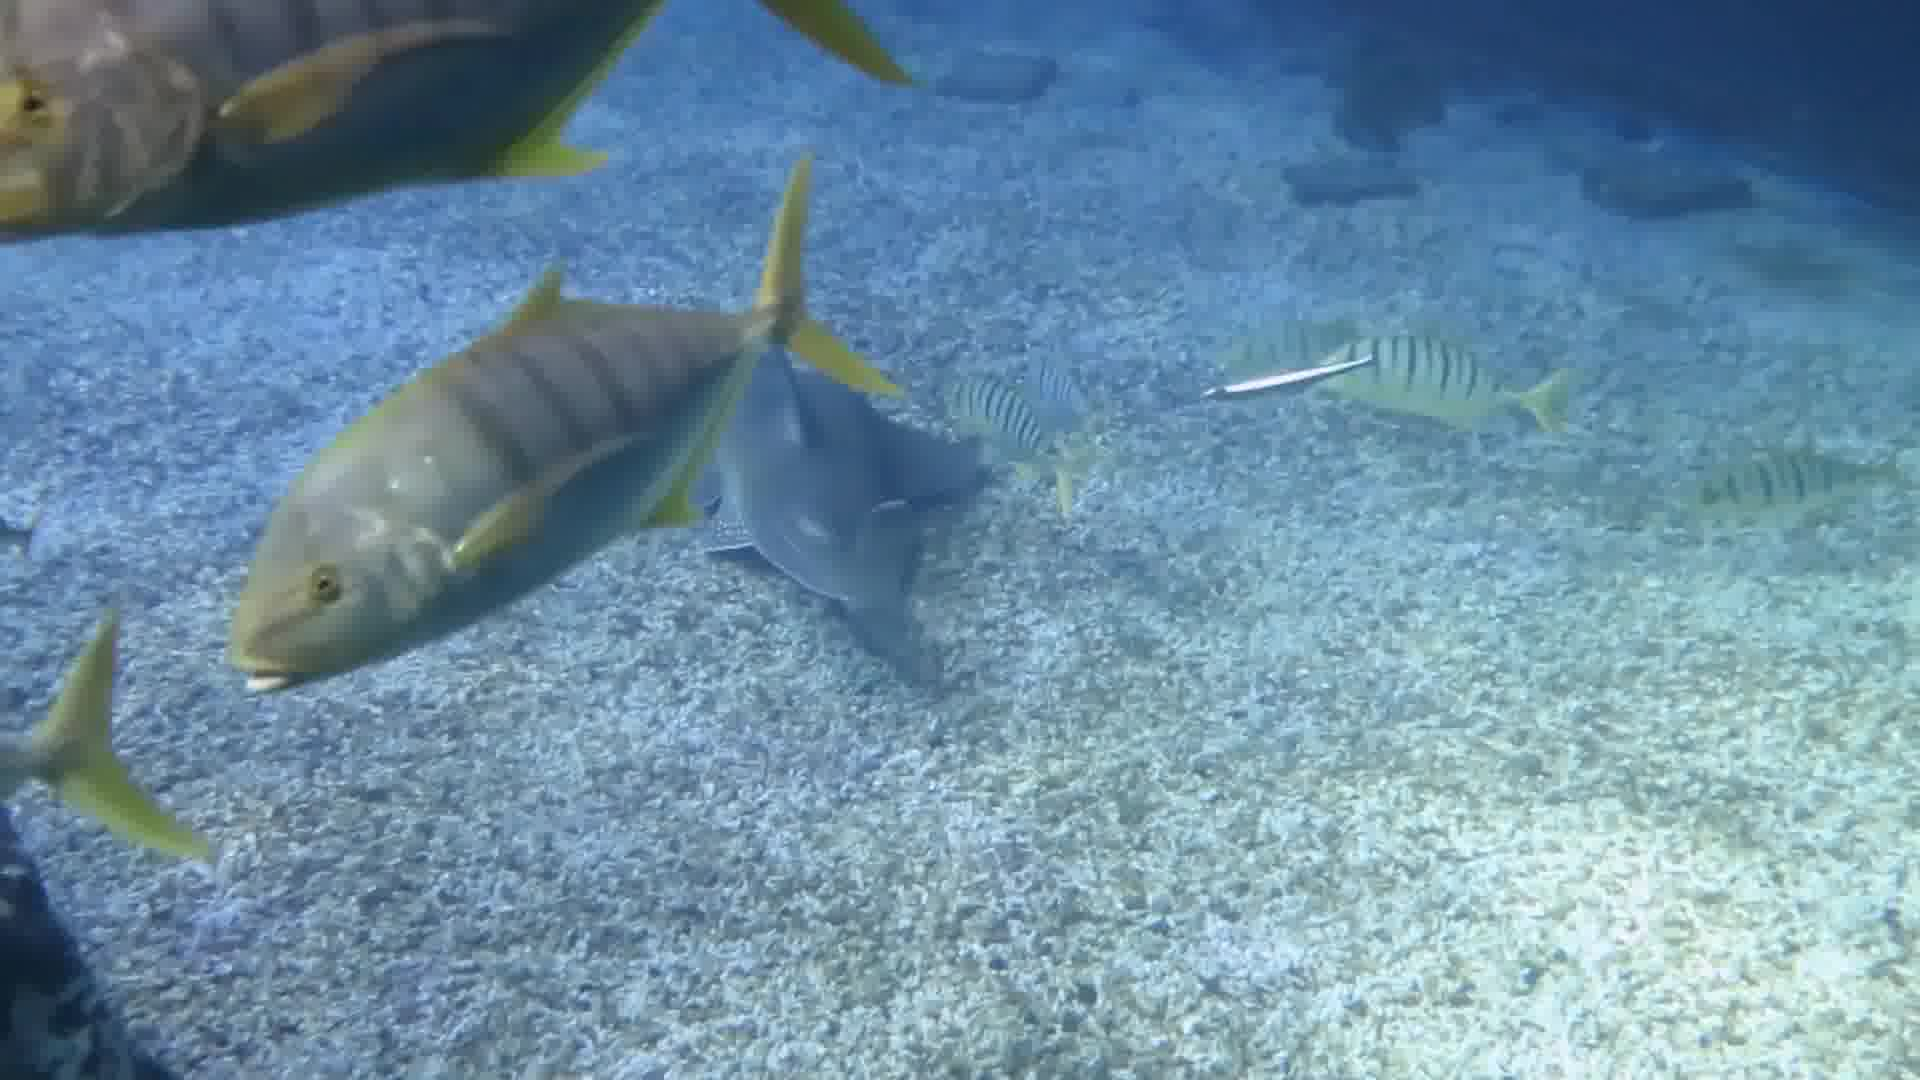Rhychobatus djiddensis: (686, 255, 1014, 699)
